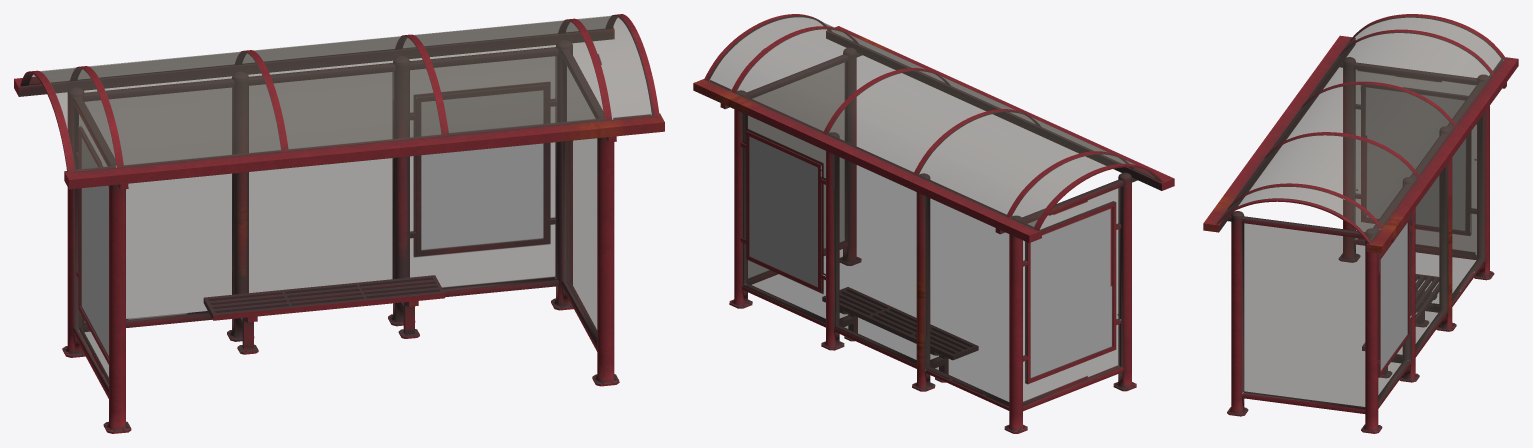
File: bus_stop.glb
The picture shows the model from 3 angles, left to right: view 1: azimuth 30°, elevation 25°; view 2: azimuth 150°, elevation 25°; view 3: azimuth 270°, elevation 25°; orthographic projection. The views are drawn at different scales.
Visible parts, largest first — view 1: BusStop_Structure_shader_0; view 2: BusStop_Structure_shader_0; view 3: BusStop_Structure_shader_0.
Boxes of the visible parts, left/top/right/bottom form: BusStop_Structure_shader_0: left=14, top=14, right=664, bottom=433; BusStop_Structure_shader_0: left=693, top=14, right=1174, bottom=433; BusStop_Structure_shader_0: left=1203, top=14, right=1518, bottom=433.
Bounding box in the file's own units: 626 × 326 × 395.
Materials: 1 (1 with a texture image).
